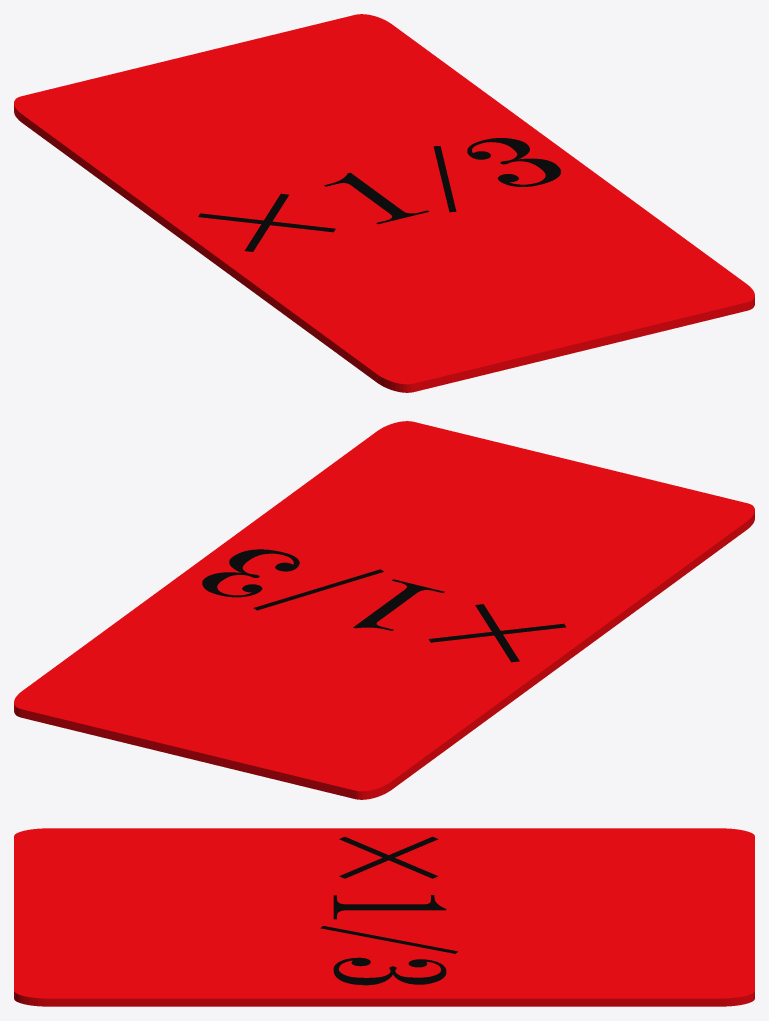
Rendered from Card_OneThird.fbx.
The picture shows the model from 3 angles, top to bottom: view 1: azimuth 30°, elevation 25°; view 2: azimuth 150°, elevation 25°; view 3: azimuth 270°, elevation 25°; orthographic projection. The views are drawn at different scales.
Visible parts, largest first — view 1: Cube, Text.001; view 2: Cube, Text.001; view 3: Cube, Text.001.
Boxes of the visible parts, x1,y1,x2,y2 form: Cube: (14,14,754,392); Text.001: (198,138,560,251); Cube: (14,421,754,799); Text.001: (202,549,565,662); Cube: (14,828,754,1006); Text.001: (320,836,457,985).
Bounding box in the file's own units: 109 × 3.99 × 200.
